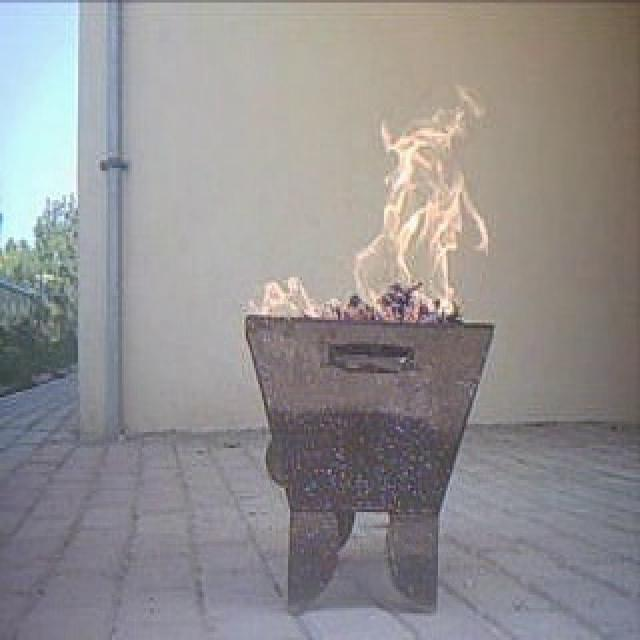fire: (352, 113, 488, 318)
